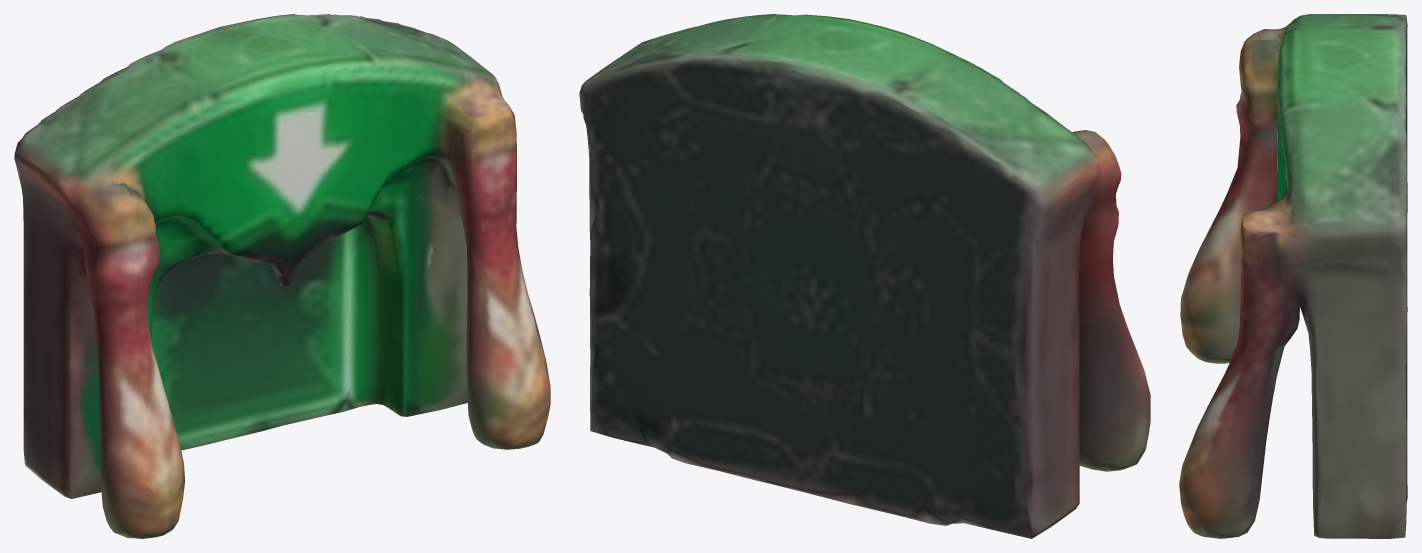
File: CF_ExitOpen.fbx
3 renders of one model, left to right at view 1: azimuth 30°, elevation 25°; view 2: azimuth 150°, elevation 25°; view 3: azimuth 270°, elevation 25°, orthographic. The views are drawn at different scales.
Parts seen in each view (by area): view 1: CF_ExitOpen; view 2: CF_ExitOpen; view 3: CF_ExitOpen.
Boxes of the visible parts, x1=… form: CF_ExitOpen: x1=14, y1=14, x2=550, y2=538; CF_ExitOpen: x1=579, y1=14, x2=1150, y2=538; CF_ExitOpen: x1=1179, y1=14, x2=1407, y2=538.
Bounding box in the file's own units: 9 × 7.82 × 4.12.
